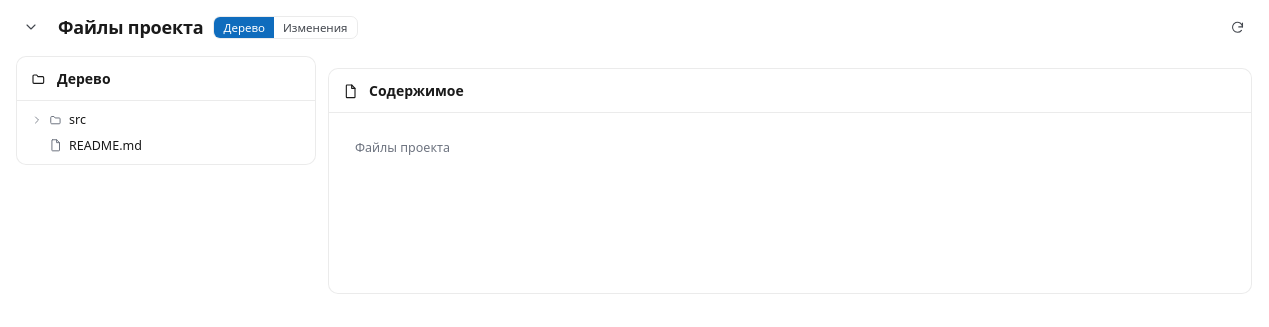
the project's files › says so when the file is not one it can show
Check: the text "README.md" is shown, box [69, 136, 142, 154]
Click the button "README.md" at (105, 145), box [23, 132, 309, 158]
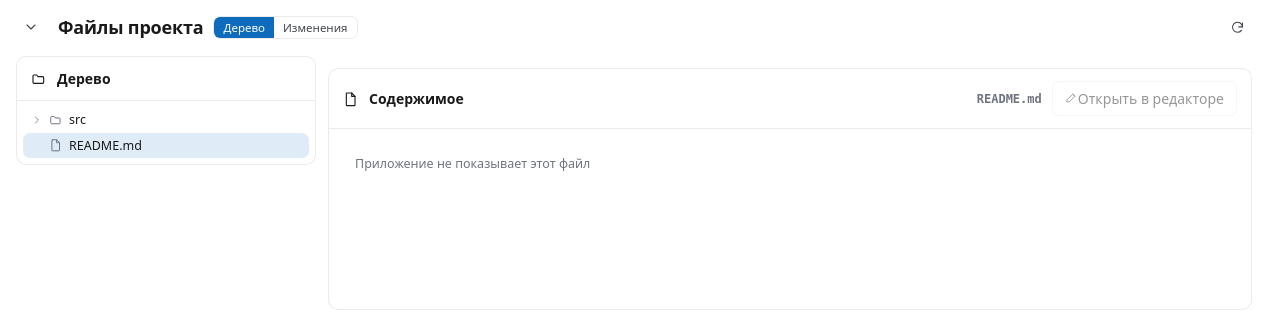
Check: the text "Приложение не показывает этот файл" is shown, box [355, 155, 590, 172]
